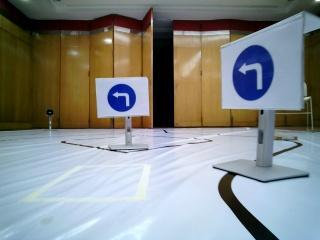left: (224, 20, 300, 111), (94, 78, 151, 118)
